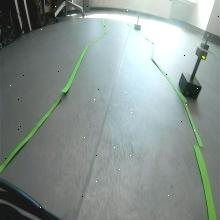green: (195, 47, 208, 60)
